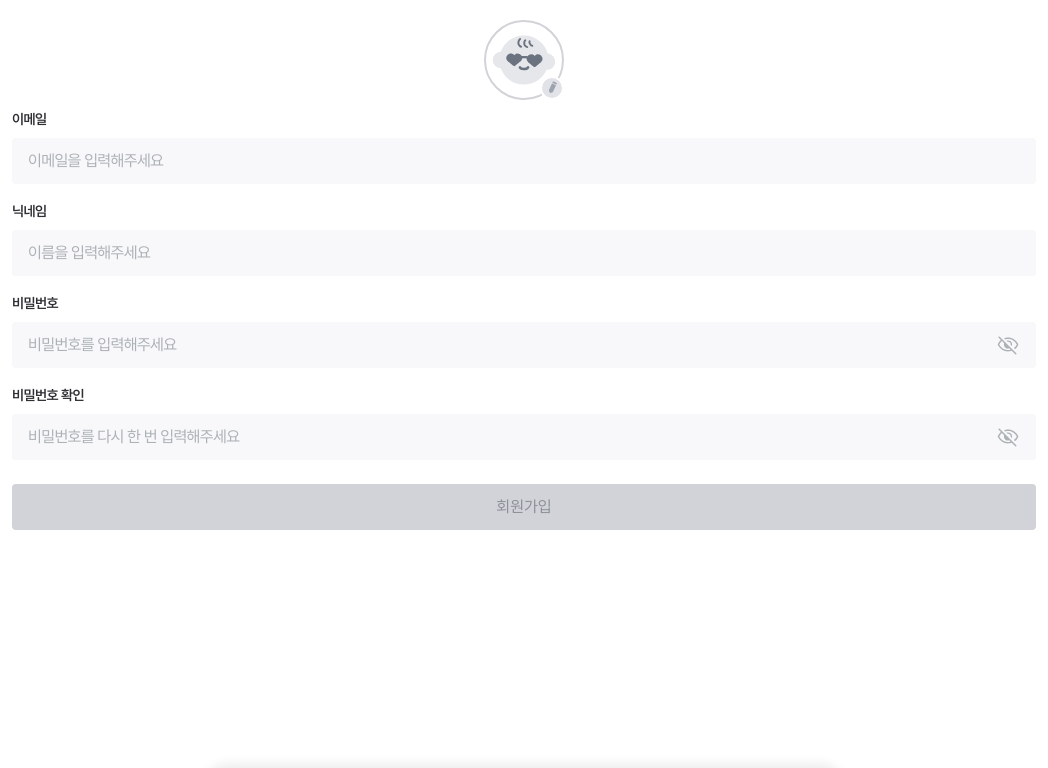
Scenario: SignupForm › 비밀번호를 8자 이상 입력하지 않으면 "비밀번호를 8자 이상 입력해주세요" 에러 메시지 확인
Step 1. Type "test" into the field with placeholder "이메일을 입력해주세요" → {"x": 524, "y": 161}, box 12,138 -> 1036,184
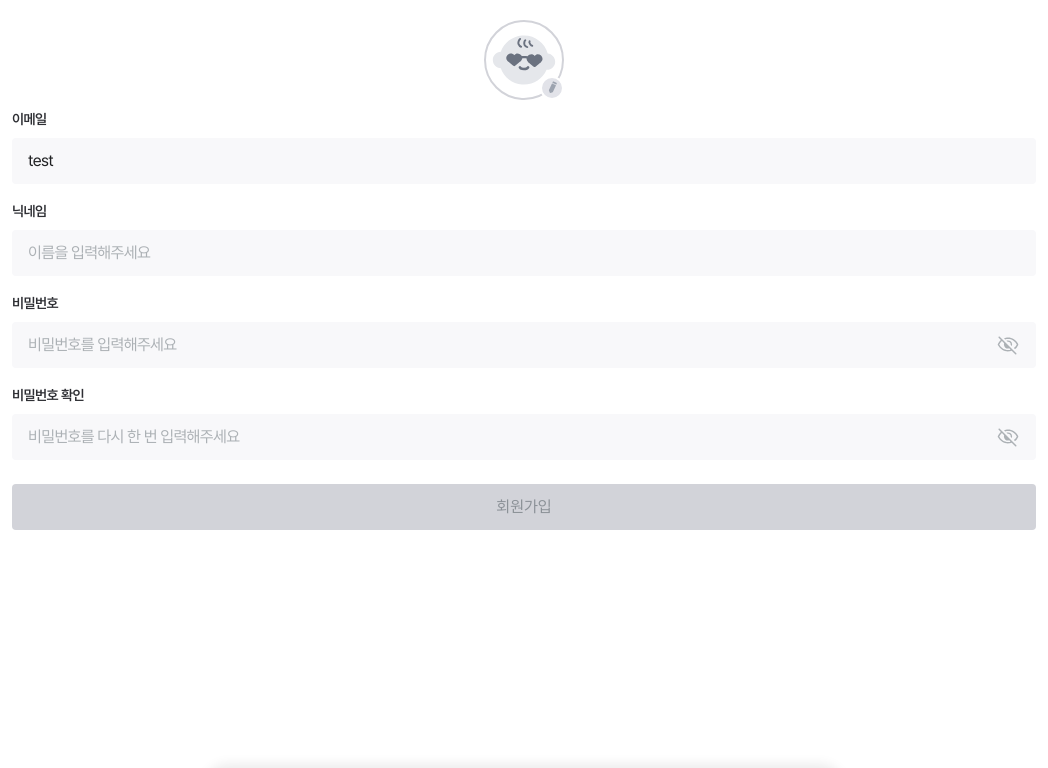
Step 2. Type "테스트이름" into the field with placeholder "이름을 입력해주세요" → {"x": 524, "y": 253}, box 12,230 -> 1036,276
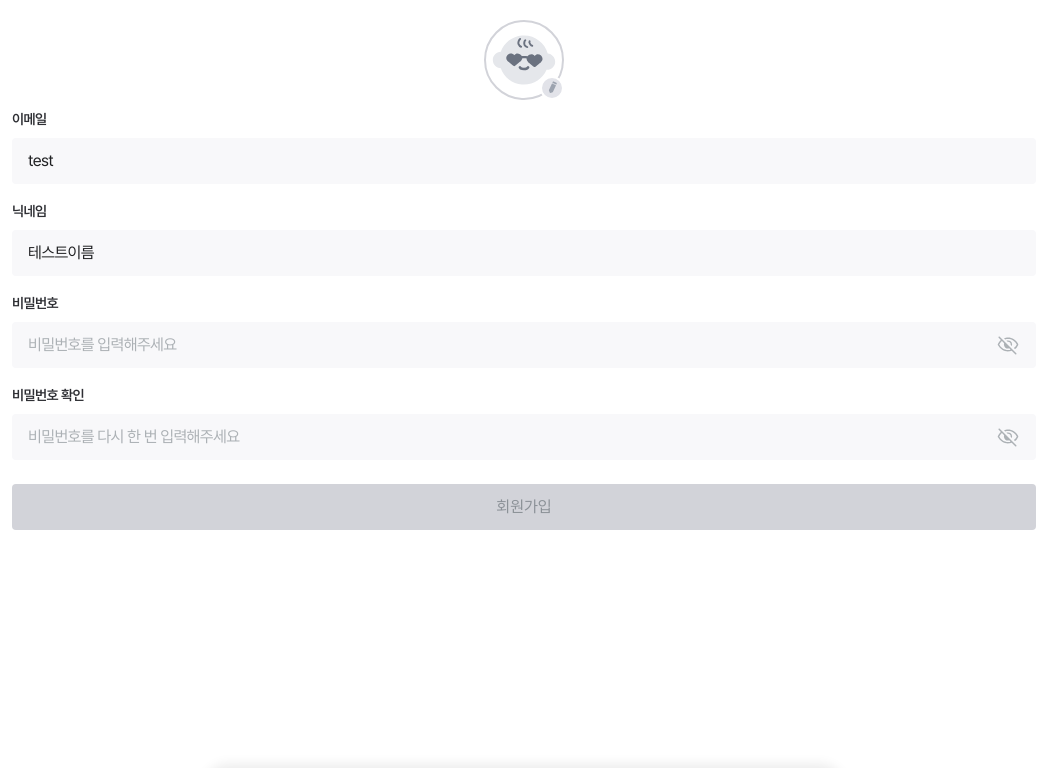
Step 3. Type "pass" into the password field with test id "password-input" → {"x": 524, "y": 345}, box 12,322 -> 1036,368
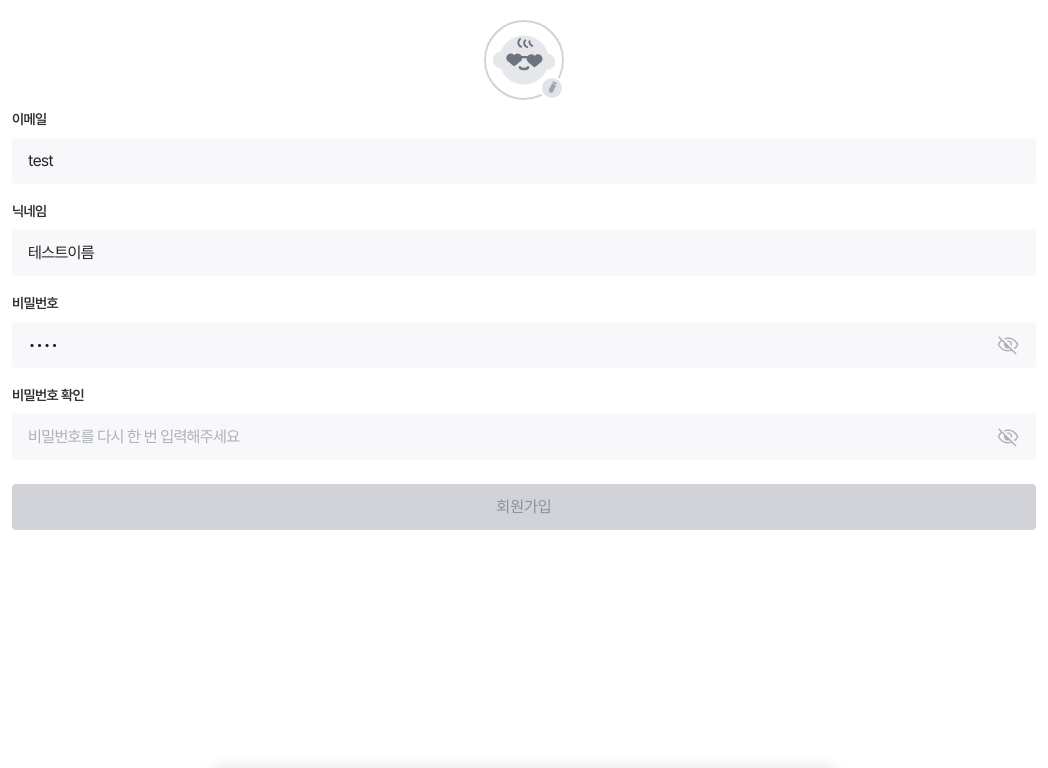
Step 4. Type "pass" into the password field with test id "password-confirm-input" → {"x": 524, "y": 437}, box 12,414 -> 1036,460
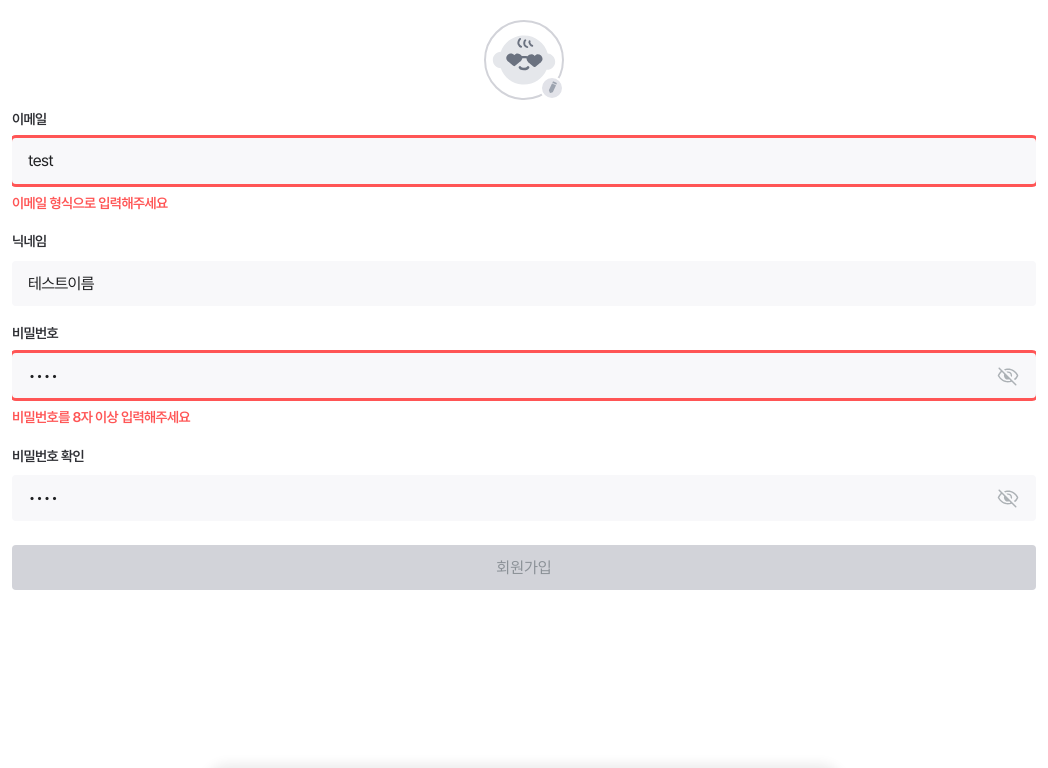
Now the text "비밀번호를 8자 이상 입력해주세요" is shown, box 12,409 -> 190,425
